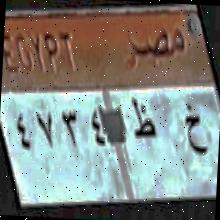3: (58, 106, 78, 156)
4: (13, 110, 32, 158), (88, 106, 106, 155)
7: (33, 106, 55, 157)
Thaa: (125, 94, 159, 150)
khaa: (180, 96, 212, 164)
